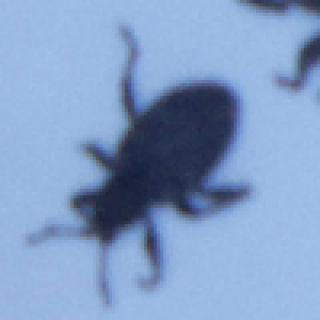bvw: (26, 25, 248, 308)
